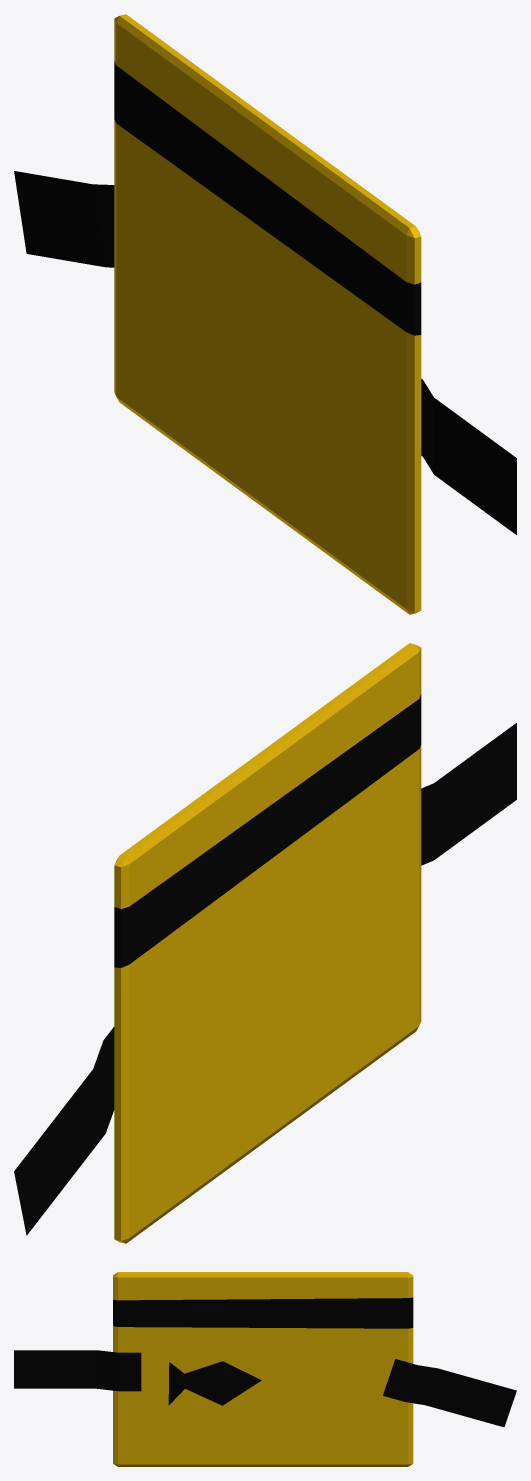
Rendered from card.fbx.
The picture shows the model from 3 angles, top to bottom: view 1: azimuth 30°, elevation 25°; view 2: azimuth 150°, elevation 25°; view 3: azimuth 270°, elevation 25°; orthographic projection. The views are drawn at different scales.
Visible parts, largest first — view 1: Card, DuctTape; view 2: Card, DuctTape; view 3: Card, DuctTape.
Boxes of the visible parts, x1,y1,x2,y2 form: Card: (114,14,421,614); DuctTape: (14,171,516,534); Card: (114,643,421,1243); DuctTape: (14,723,516,1235); Card: (113,1272,413,1466); DuctTape: (14,1350,516,1427).
Size of the model in its own units: 0.1851 by 4.15 by 9.77.
